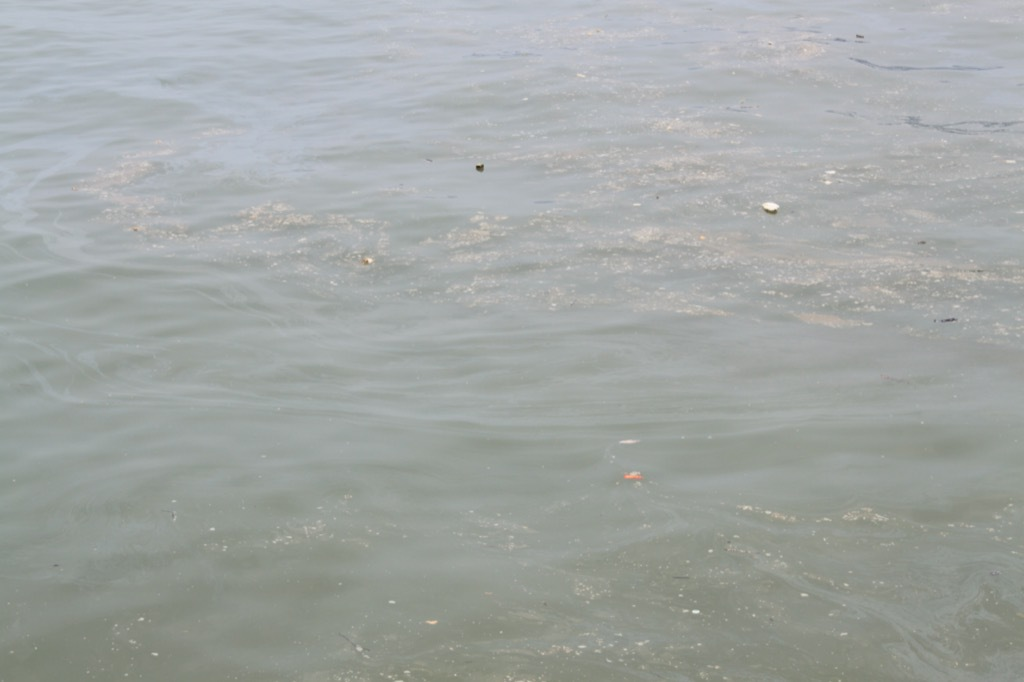organic: (922, 310, 971, 332), (843, 24, 871, 46)
plastic: (347, 245, 396, 281), (752, 189, 795, 230), (458, 150, 502, 186), (619, 465, 646, 486)
